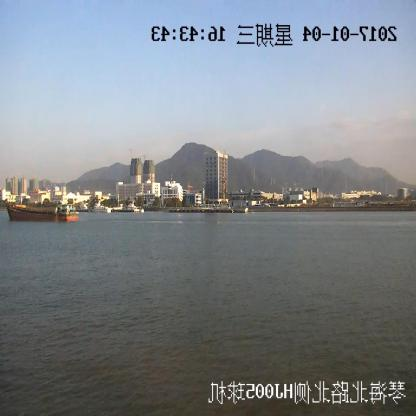Bulk Carrier: (6, 204, 78, 222)
